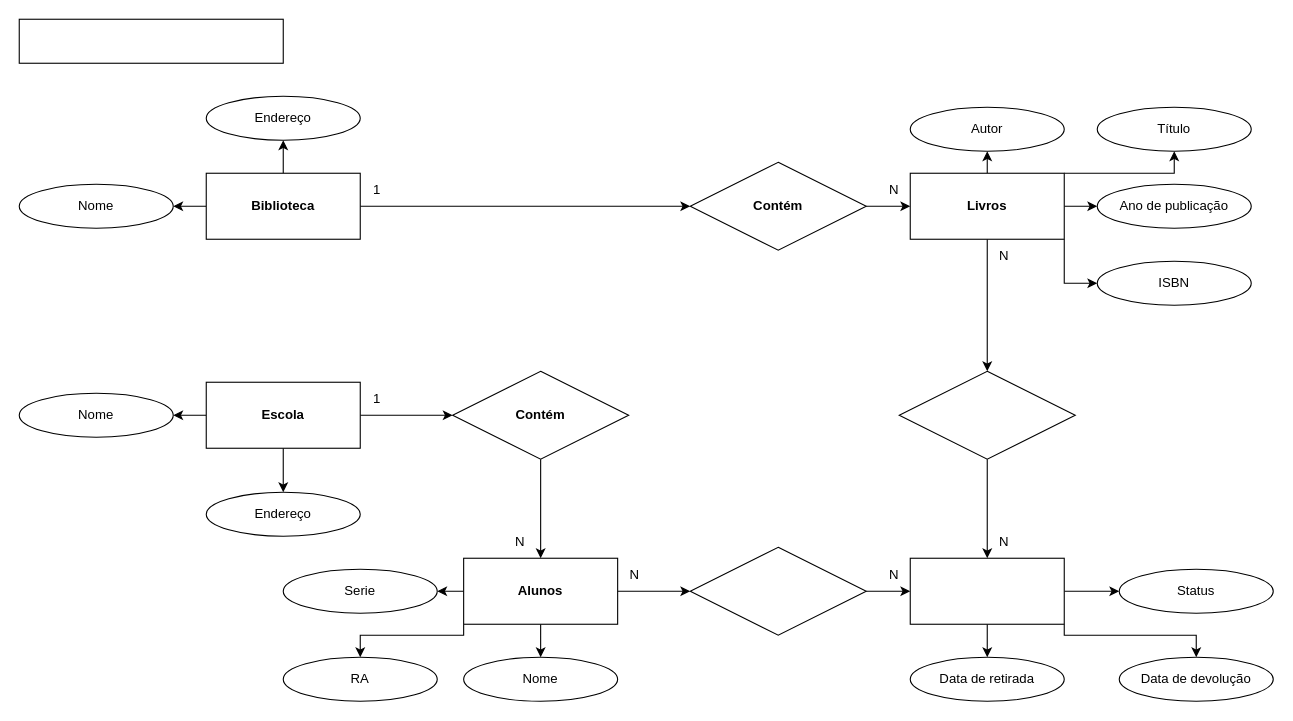
The diagram is 1293 pixels wide and 721 high, and some of its shapes have lost their labels. Each missing label, with the centre of its shape:
DER - BIBLIOTECA: (150,40)
Empréstimos: (986,590)
Fazem: (777,590)
Serão: (986,414)
